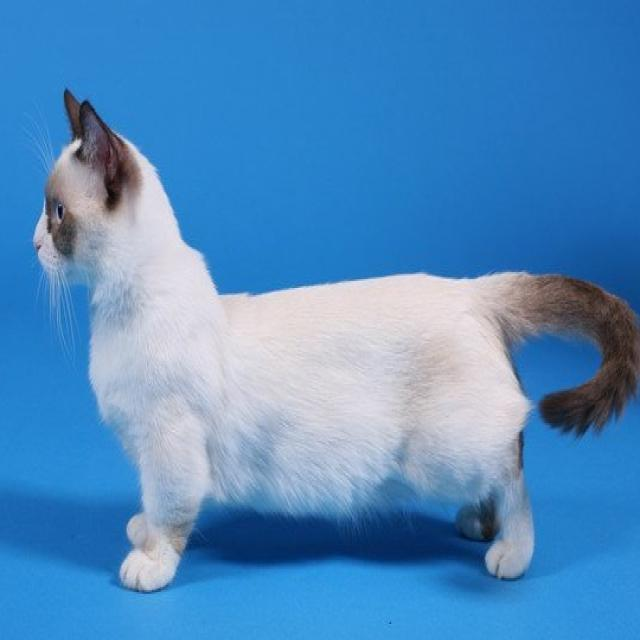Munchkin: (28, 82, 640, 594)
